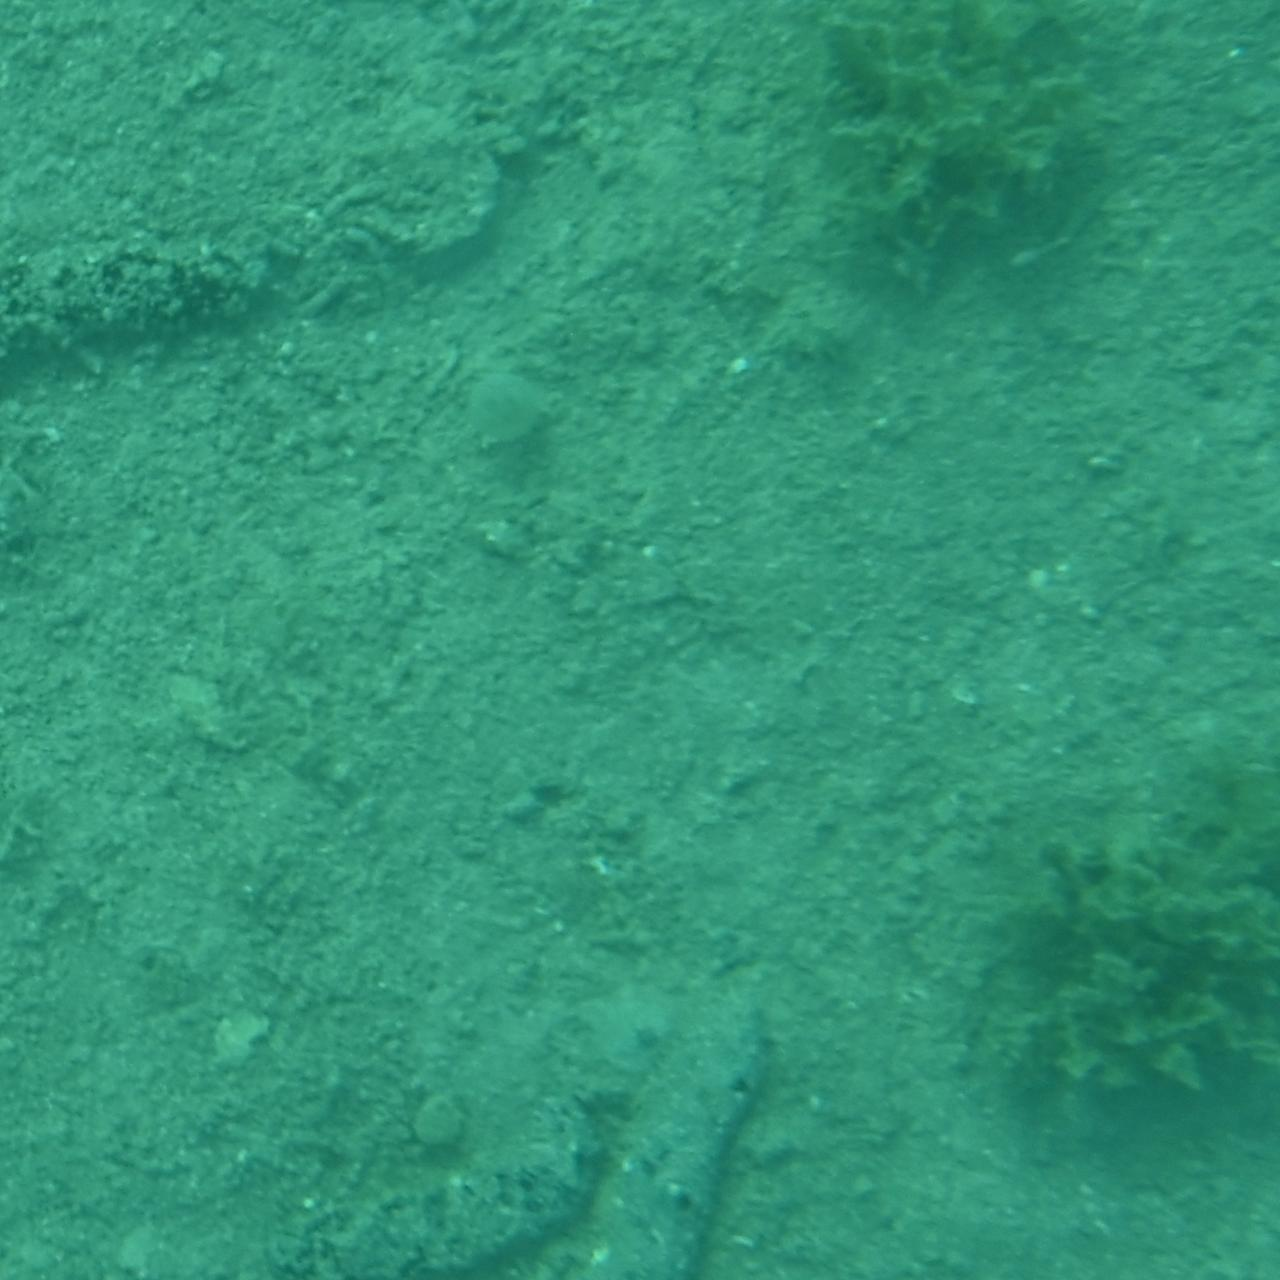Holothuria tubulosa: (0, 231, 314, 557), (542, 994, 792, 1280), (263, 1104, 626, 1280)
Phaeophyceae -cfr Cystoseira-: (962, 714, 1280, 1163), (825, 0, 1114, 287)
